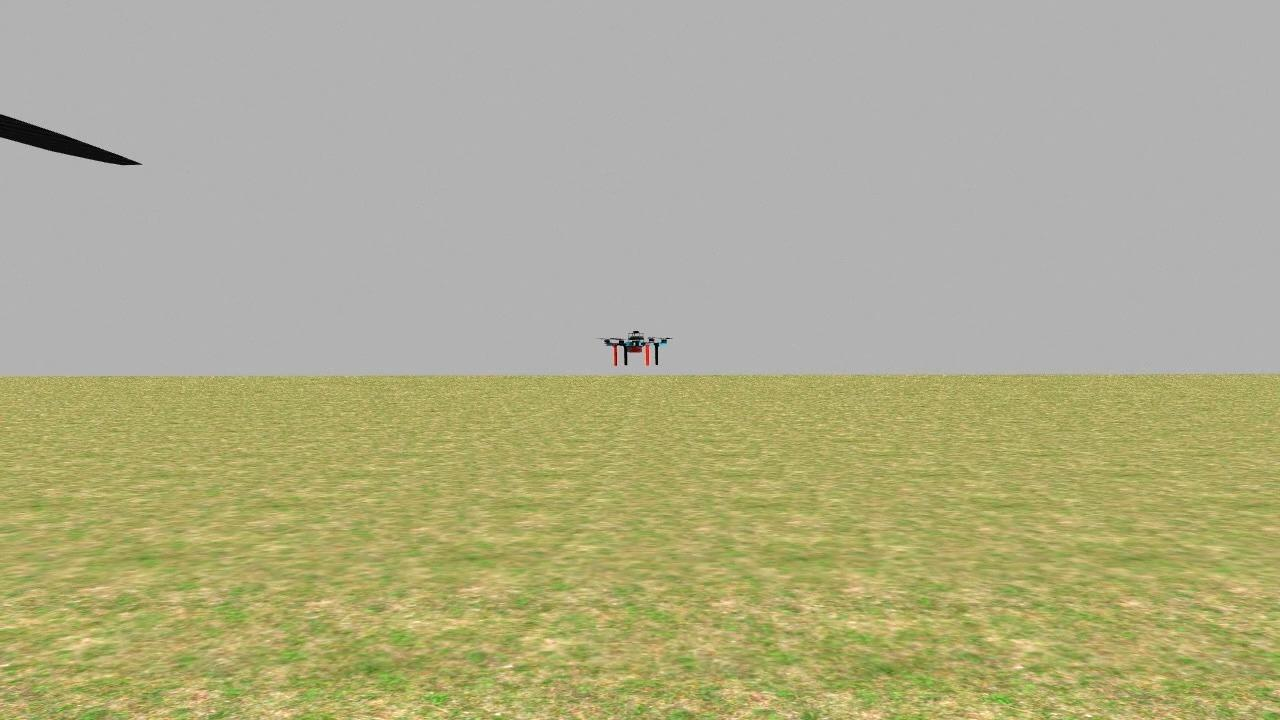UAV: (591, 320, 675, 371)
